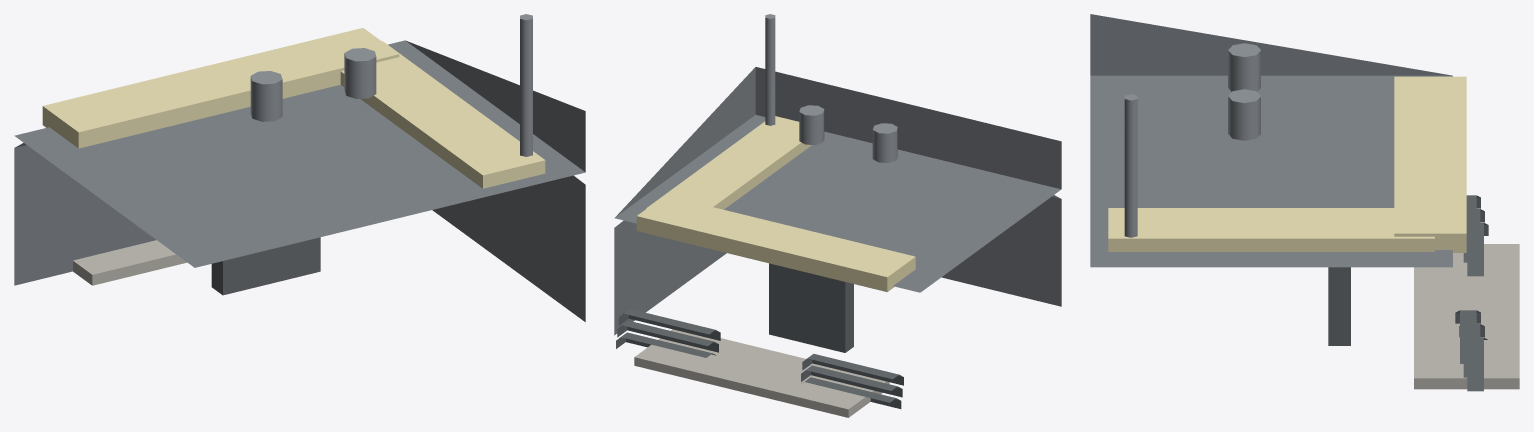
Rendered from barracks.glb.
The picture shows the model from 3 angles, left to right: view 1: azimuth 30°, elevation 25°; view 2: azimuth 150°, elevation 25°; view 3: azimuth 270°, elevation 25°; orthographic projection. The views are drawn at different scales.
Parts seen in each view (by area): view 1: Body; view 2: Body; view 3: Body.
Part boxes in pixels (x1,y1,x2,y2): Body: [14, 14, 585, 321]; Body: [614, 14, 1061, 417]; Body: [1090, 14, 1519, 391].
Size of the model in its own units: 6 by 4.4 by 5.68.
